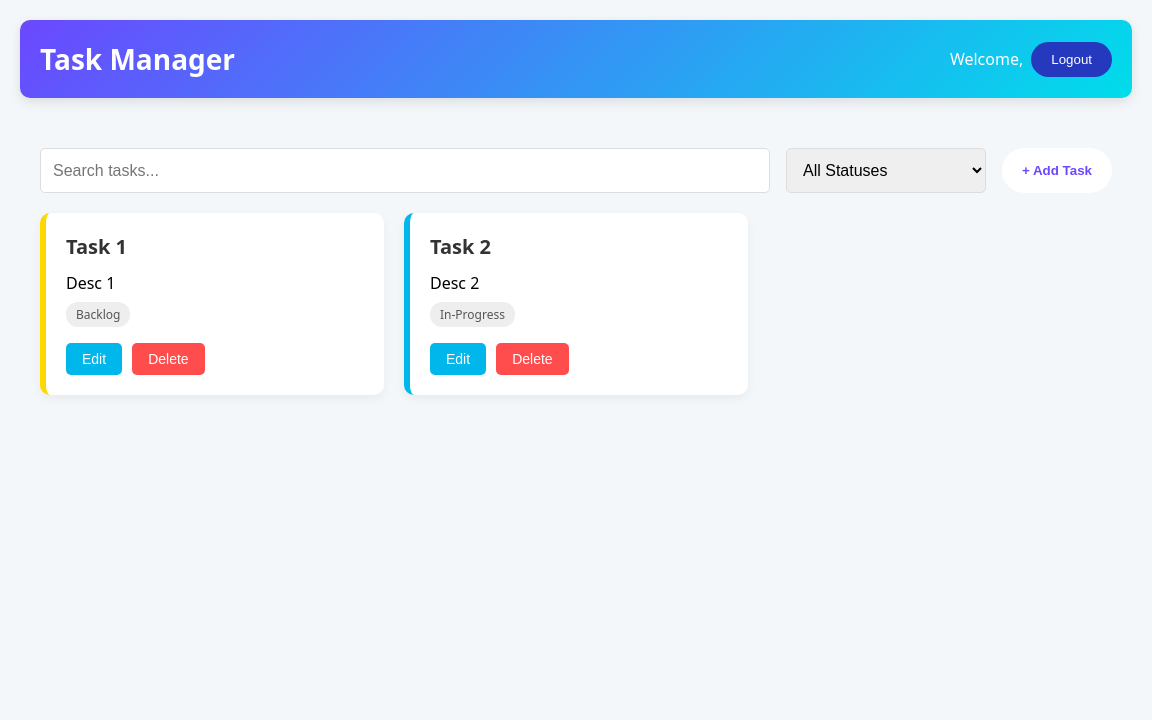
Test case: App Component › updates an existing task
Expected: the heading "Task 1" is shown, [66, 233, 127, 260]
Click the button "Edit" below "backlog": (94,359) [66, 343, 122, 375]
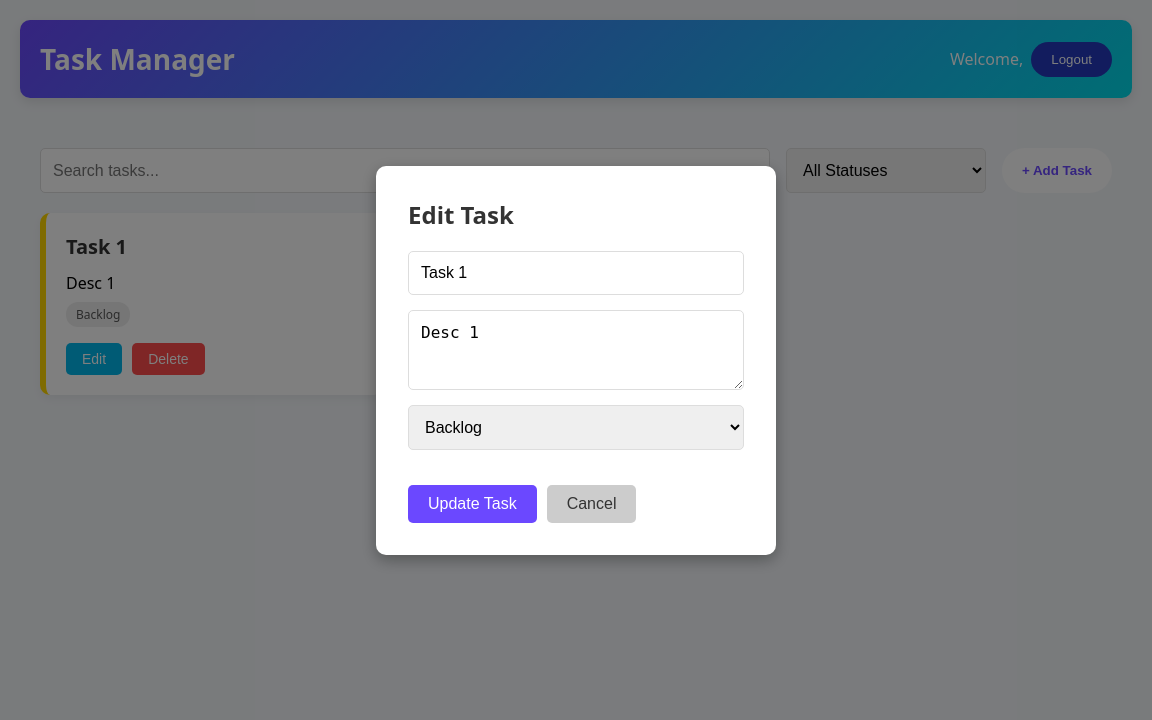
Replace the text in the field with placeholder "Title" with "Updated Task 1": (576,272) [408, 250, 744, 294]
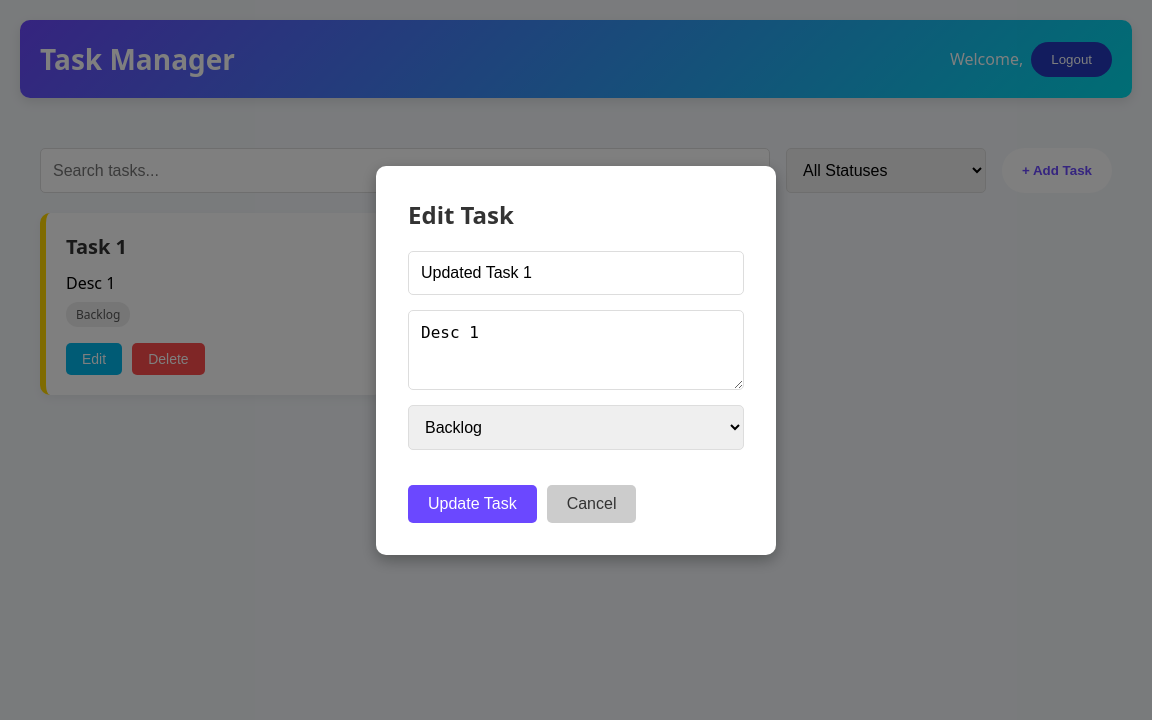
Replace the text in the text box with placeholder "Description" with "Updated Desc 1": (576,350) [408, 310, 744, 390]
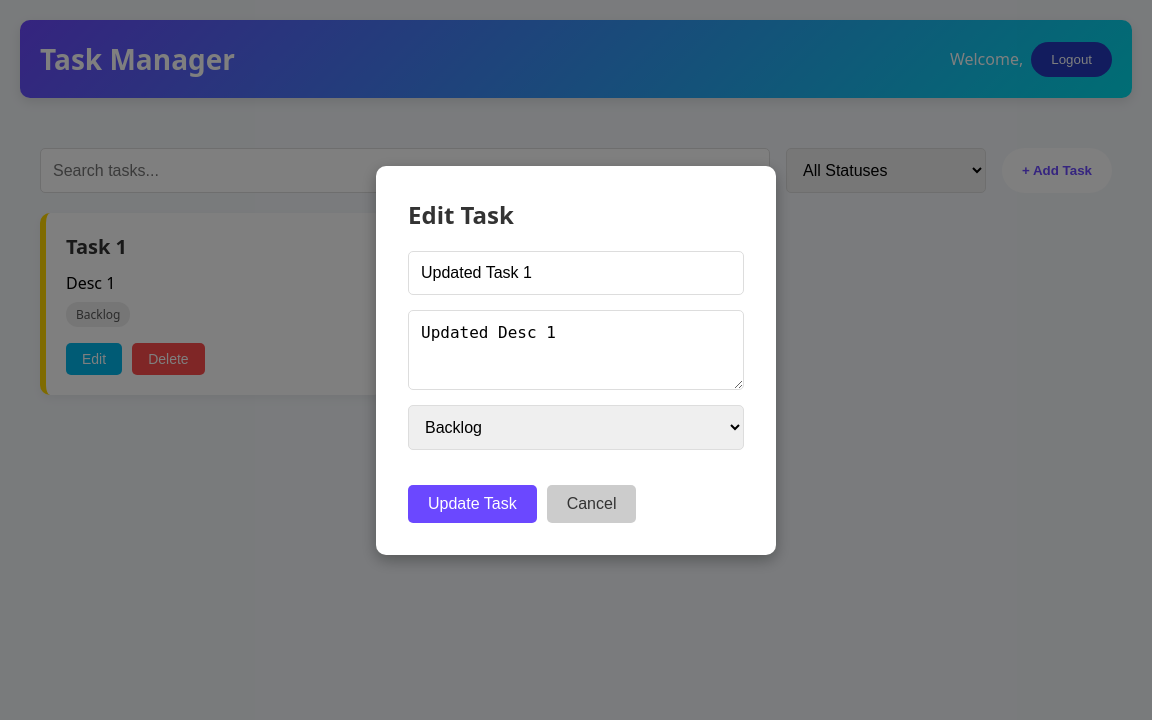
Select "In Progress" in the dropdown: (576,427) [408, 404, 744, 450]
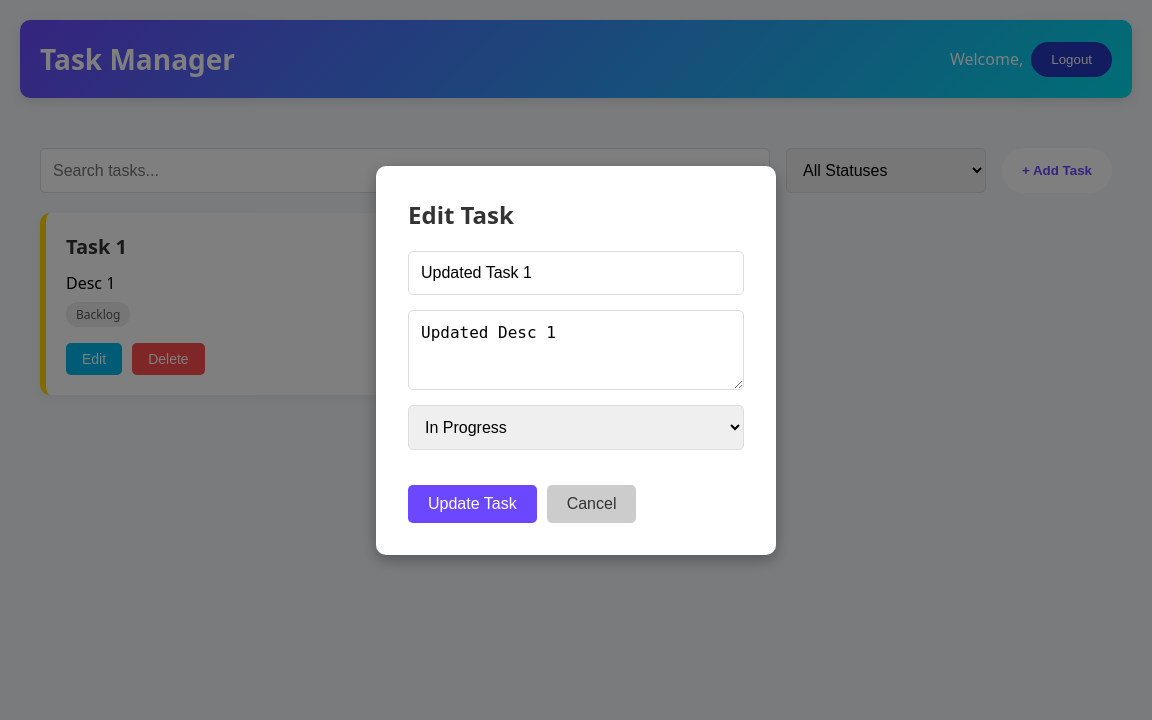
Click the button "Update Task": (472,504) [408, 484, 537, 522]
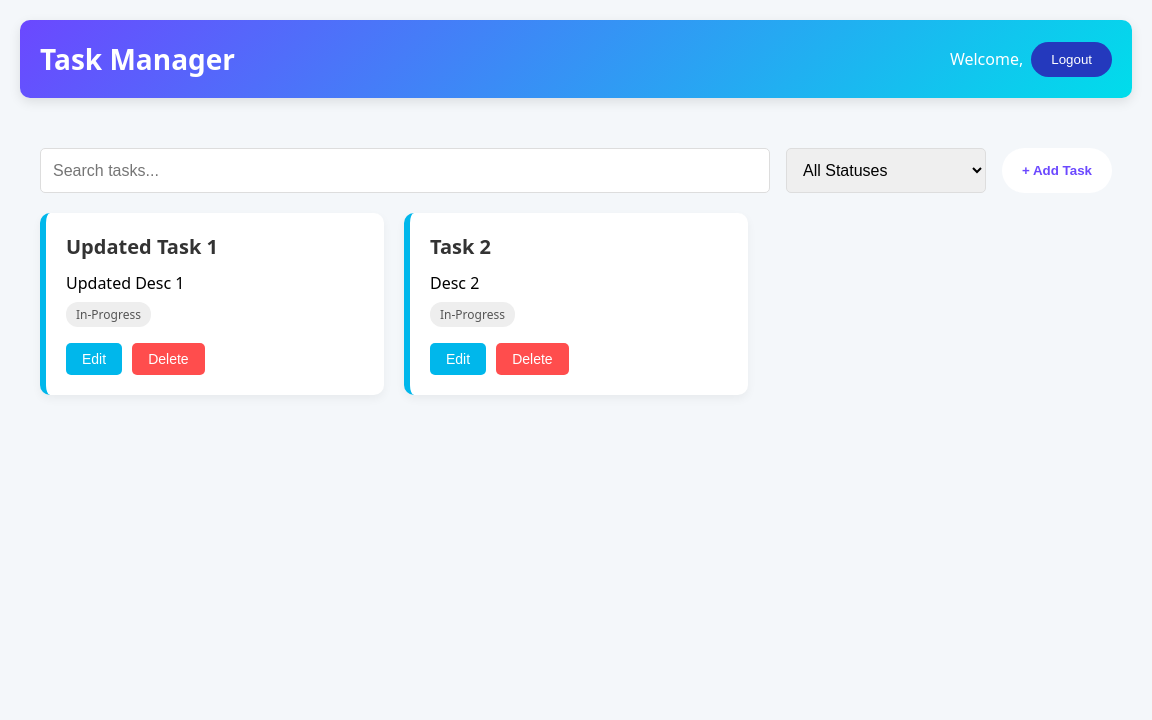
Expected: the heading "Updated Task 1" is shown, [66, 233, 218, 260]
